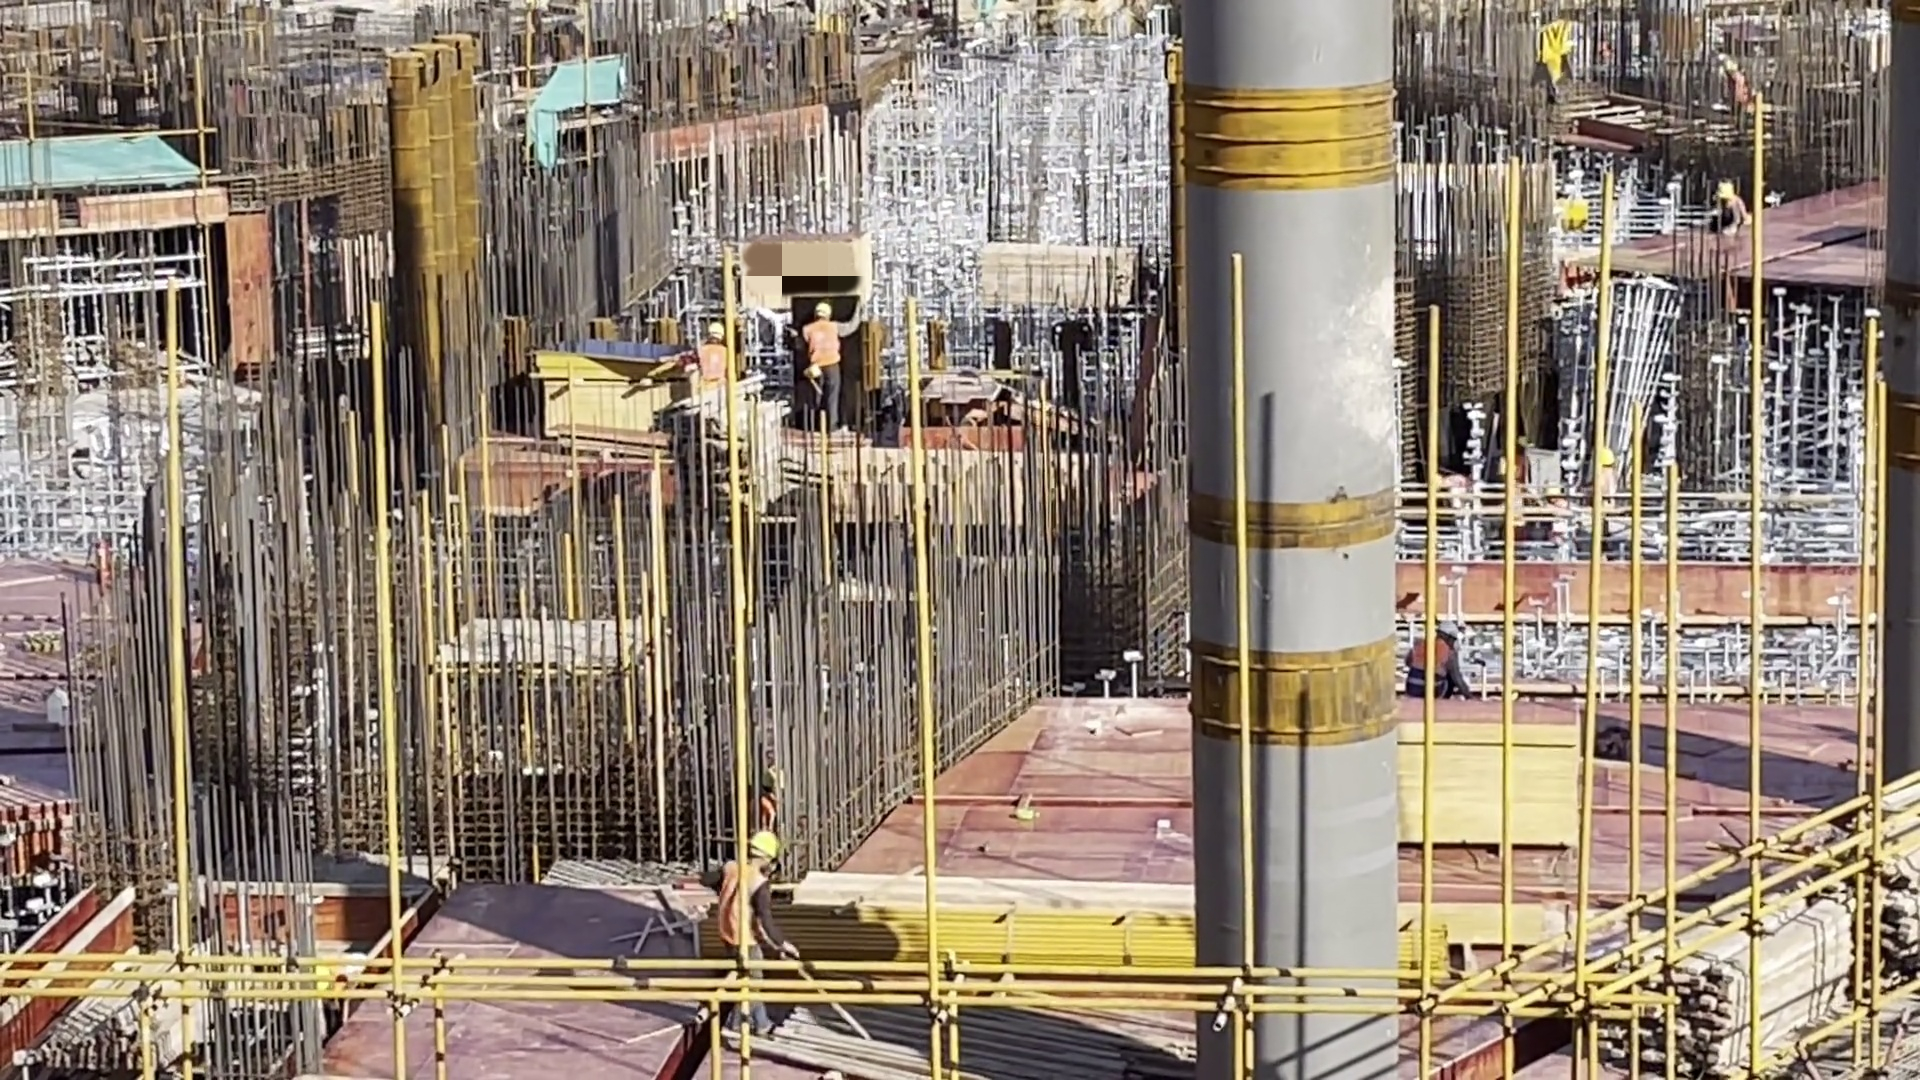helmet: (798, 288, 851, 320), (742, 815, 790, 850), (696, 315, 739, 351)
person: (688, 819, 790, 1011), (800, 297, 867, 416), (683, 315, 736, 391)
vest: (717, 853, 770, 945), (801, 310, 851, 370)
